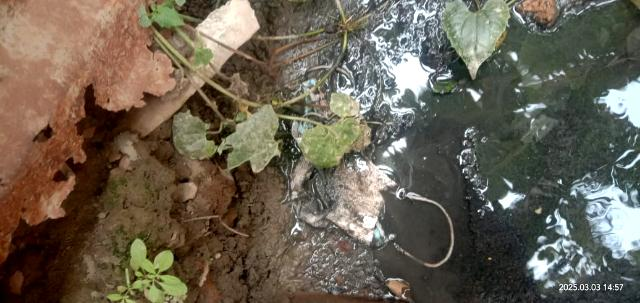mask: (290, 138, 399, 249)
